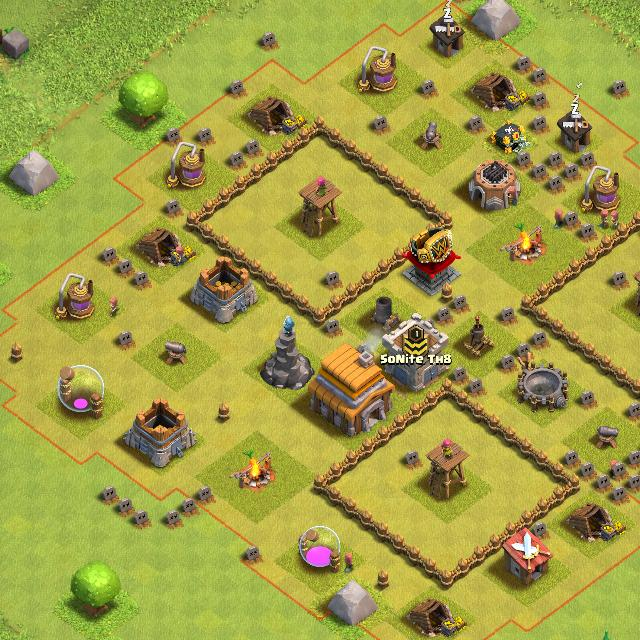Arqueira: (423, 438, 473, 503), (296, 175, 346, 237)
Canhao: (590, 420, 624, 454), (416, 118, 444, 154), (160, 338, 190, 367)
